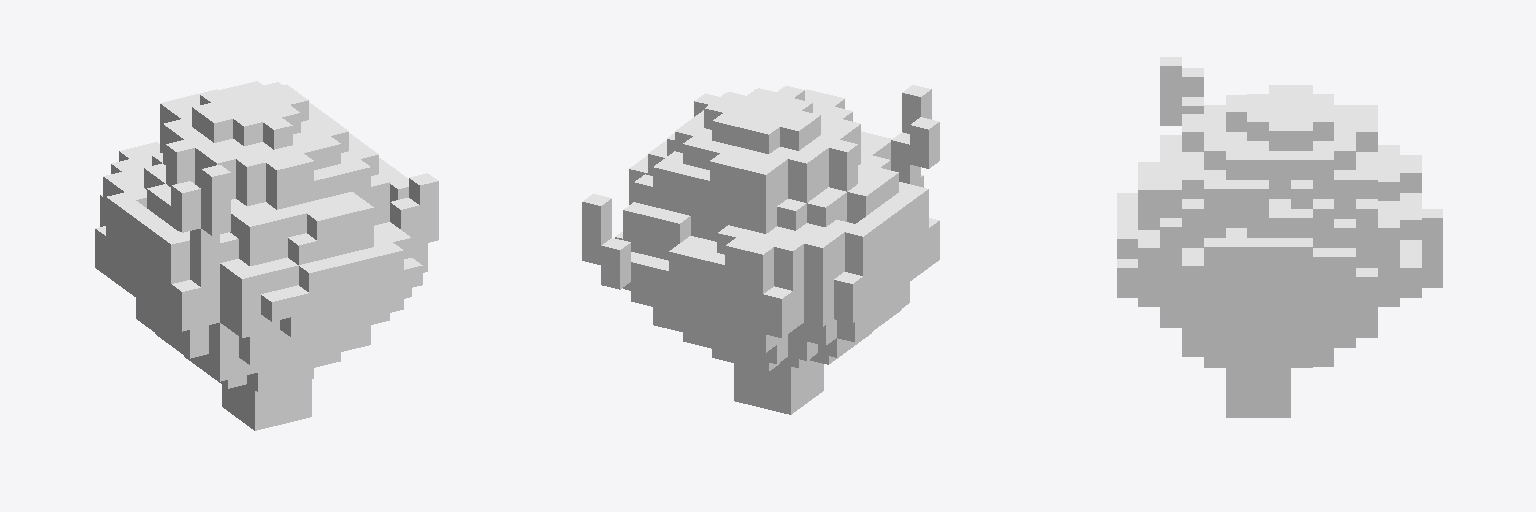
File: Bush2.obj
3 views of the same model, side by side, from view 1: azimuth 30°, elevation 25°; view 2: azimuth 150°, elevation 25°; view 3: azimuth 270°, elevation 25° (orthographic).
Visible parts, largest first — view 1: object 1; view 2: object 1; view 3: object 1.
Part boxes in pixels (x1,y1,x2,y2): object 1: (95,81,438,430); object 1: (582,85,939,414); object 1: (1117,57,1442,417).
Size of the model in its own units: 1.3 by 1.5 by 1.5.